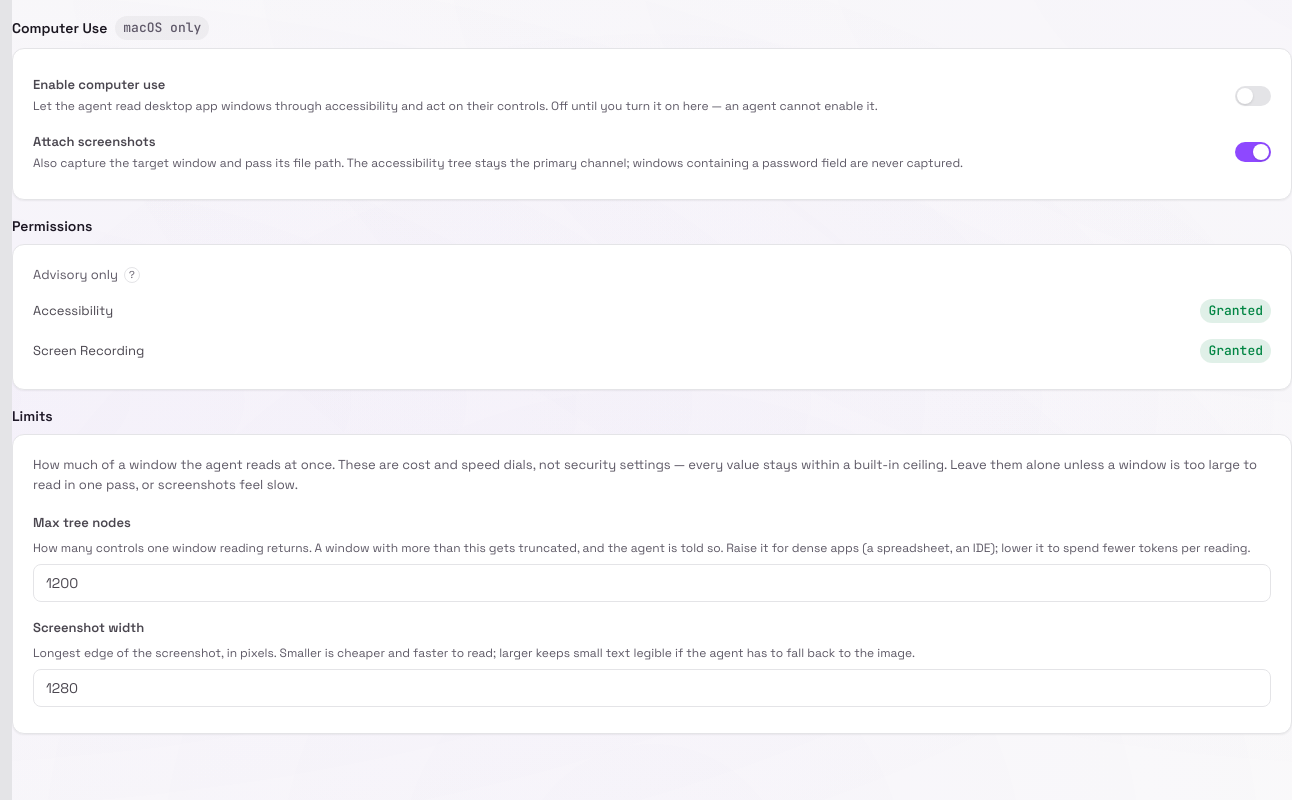
Test case: ComputerUsePanel › explains the session restart when the server reports one
Expected: the heading "Computer Use" is shown, x1=12 y1=18 x2=107 y2=38
Expected: the text "chat sessions were restarted" is not shown
Click the switch named "Enable computer use".
click(1253, 96)  # box x1=1235 y1=86 x2=1271 y2=106
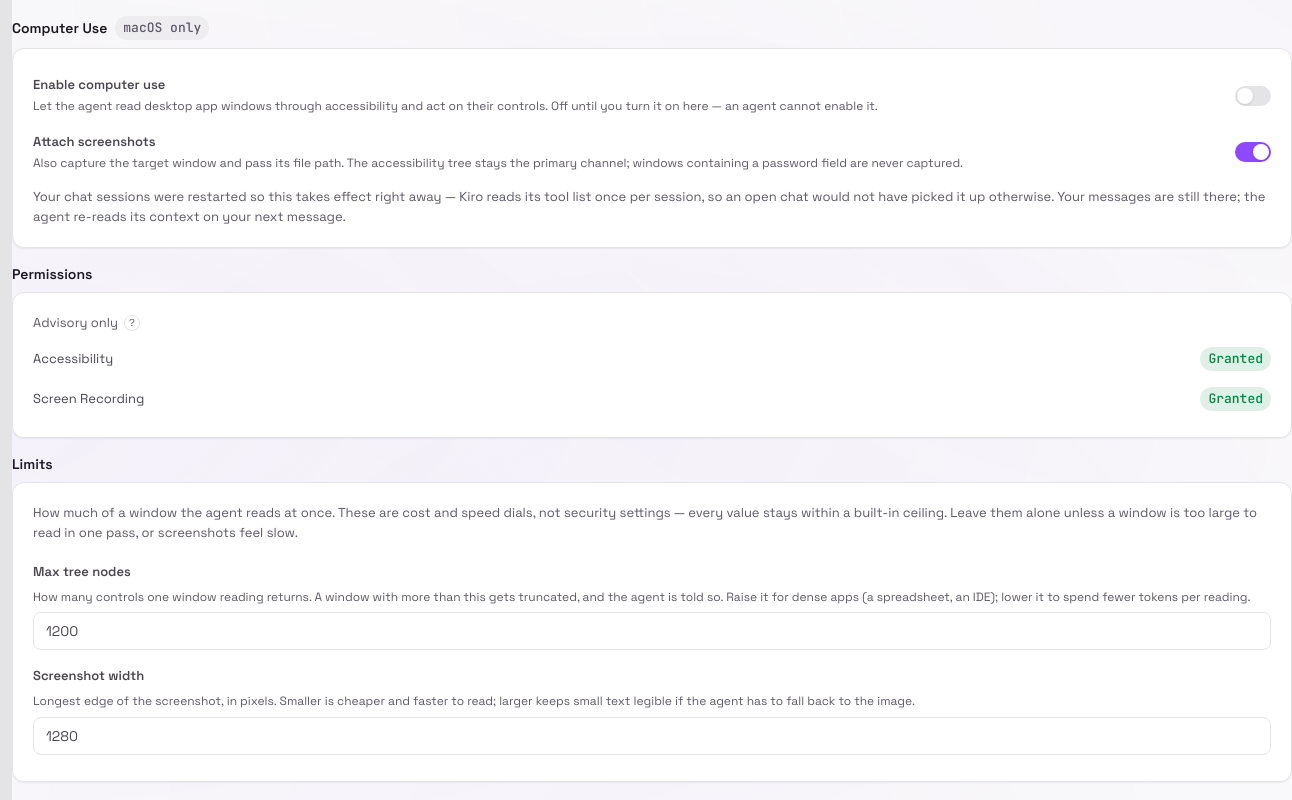
Result: the text "chat sessions were restarted" is shown at x1=33 y1=188 x2=1265 y2=225
